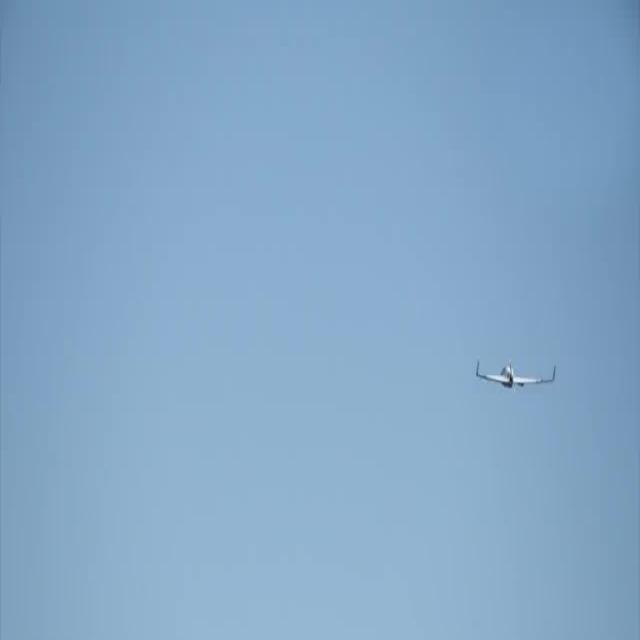iha: (503, 352, 527, 405)
